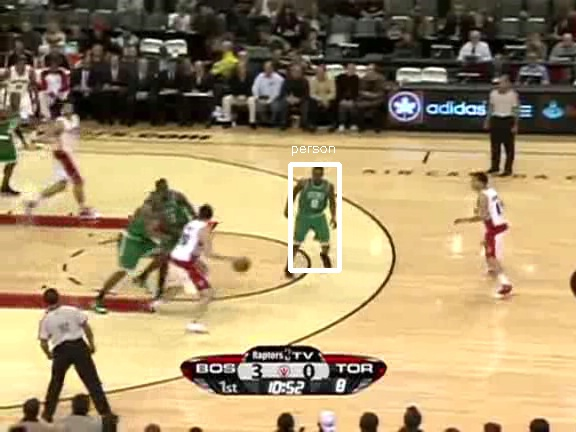person: (297, 172, 331, 253), (296, 172, 330, 253), (298, 172, 332, 253), (297, 171, 331, 252), (297, 173, 331, 254)
target_negative: (325, 27, 556, 113), (368, 83, 546, 114), (230, 401, 370, 430), (466, 366, 538, 393), (417, 128, 549, 135), (415, 213, 431, 217)
